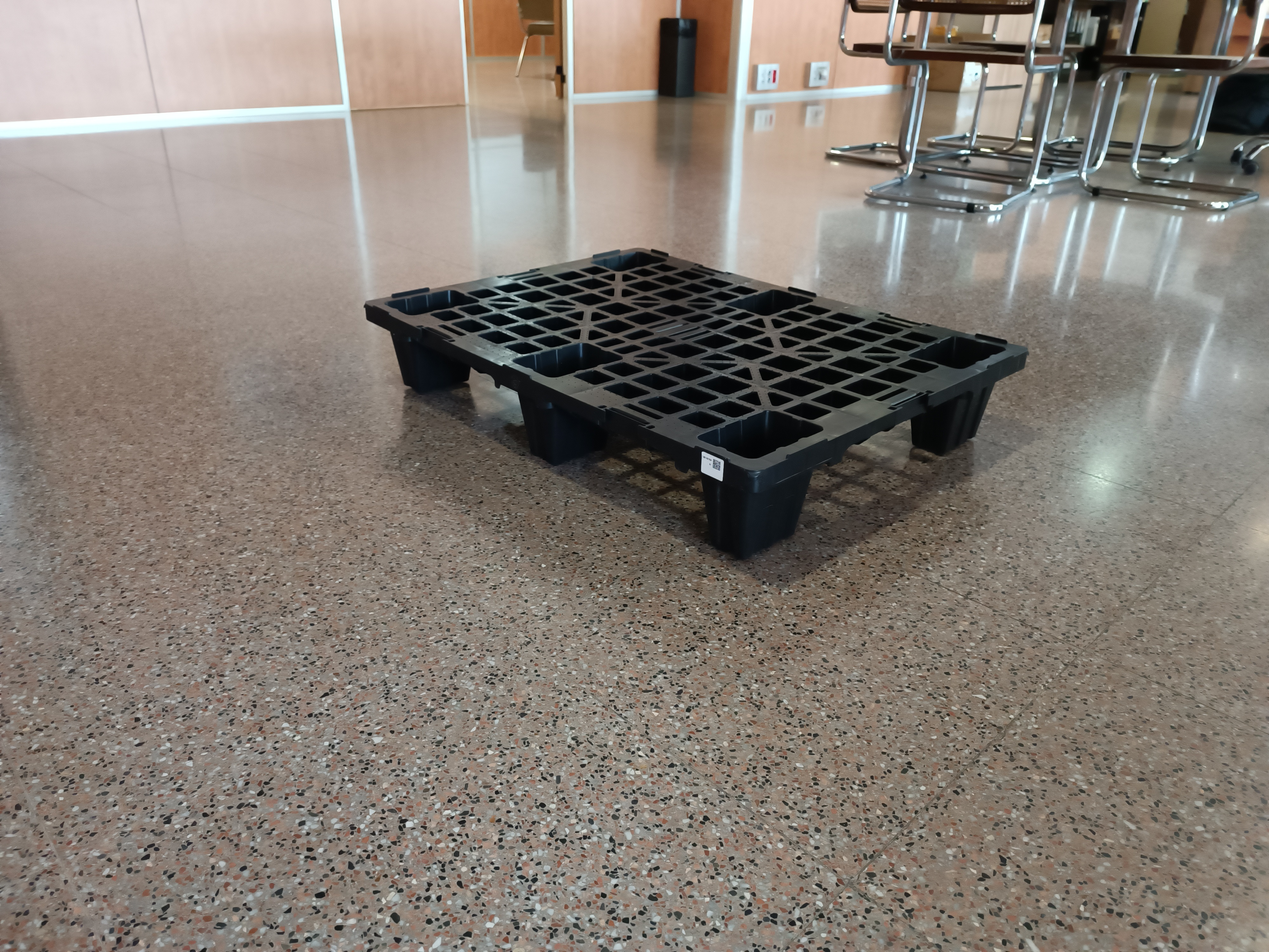block: (700, 450, 811, 563), (909, 368, 1005, 447), (371, 307, 435, 388), (518, 378, 572, 467)
front: (369, 308, 765, 576)
hole pallet: (577, 411, 711, 541), (425, 341, 528, 458)
